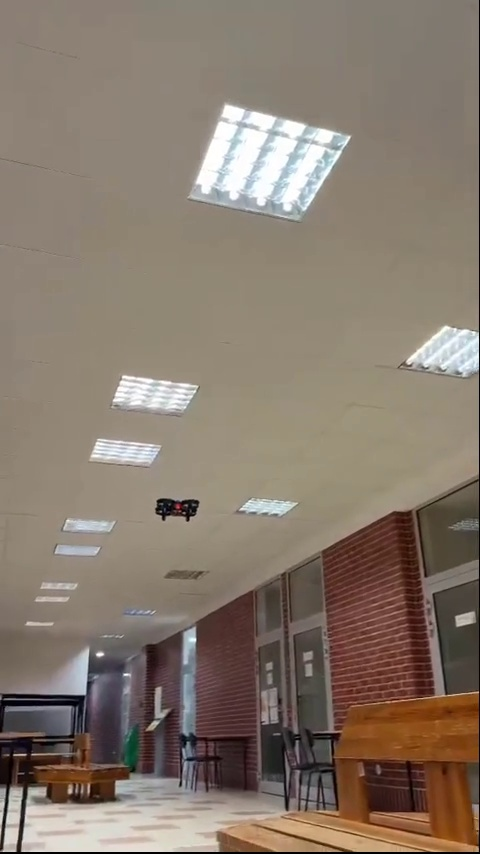drone: (155, 497, 202, 521)
